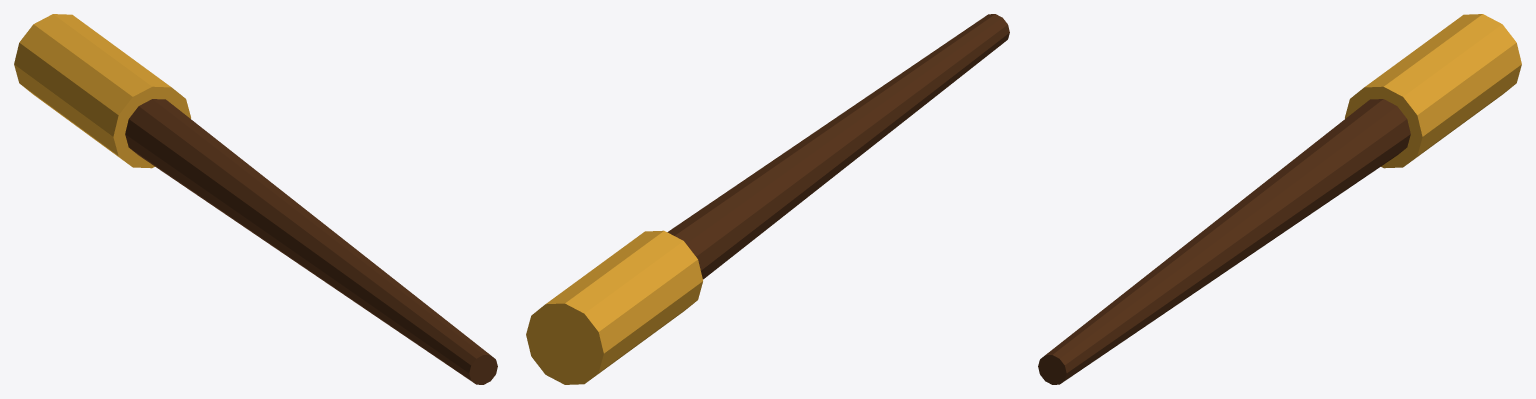
The model's file is wand_1.fbx.
3 renders of one model, left to right at view 1: azimuth 30°, elevation 25°; view 2: azimuth 150°, elevation 25°; view 3: azimuth 330°, elevation 25°, orthographic.
Visible parts, largest first — view 1: SCN_03_Wand_CleanMesh; view 2: SCN_03_Wand_CleanMesh; view 3: SCN_03_Wand_CleanMesh.
Boxes of the visible parts, x1,y1,x2,y2 form: SCN_03_Wand_CleanMesh: (14, 14, 497, 384); SCN_03_Wand_CleanMesh: (526, 14, 1009, 384); SCN_03_Wand_CleanMesh: (1038, 14, 1521, 384).
Size of the model in its own units: 0.19 by 0.19 by 1.82.
